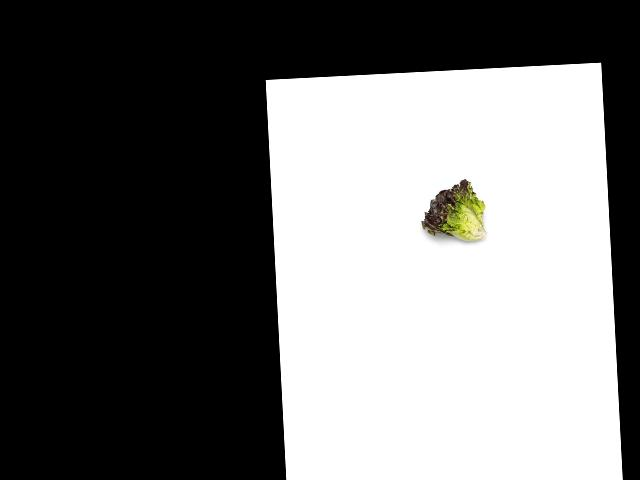lettuce: (415, 179, 489, 244)
